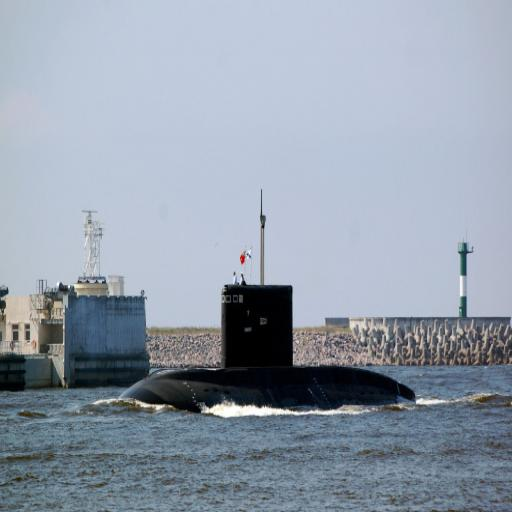submarine: (110, 178, 426, 410)
